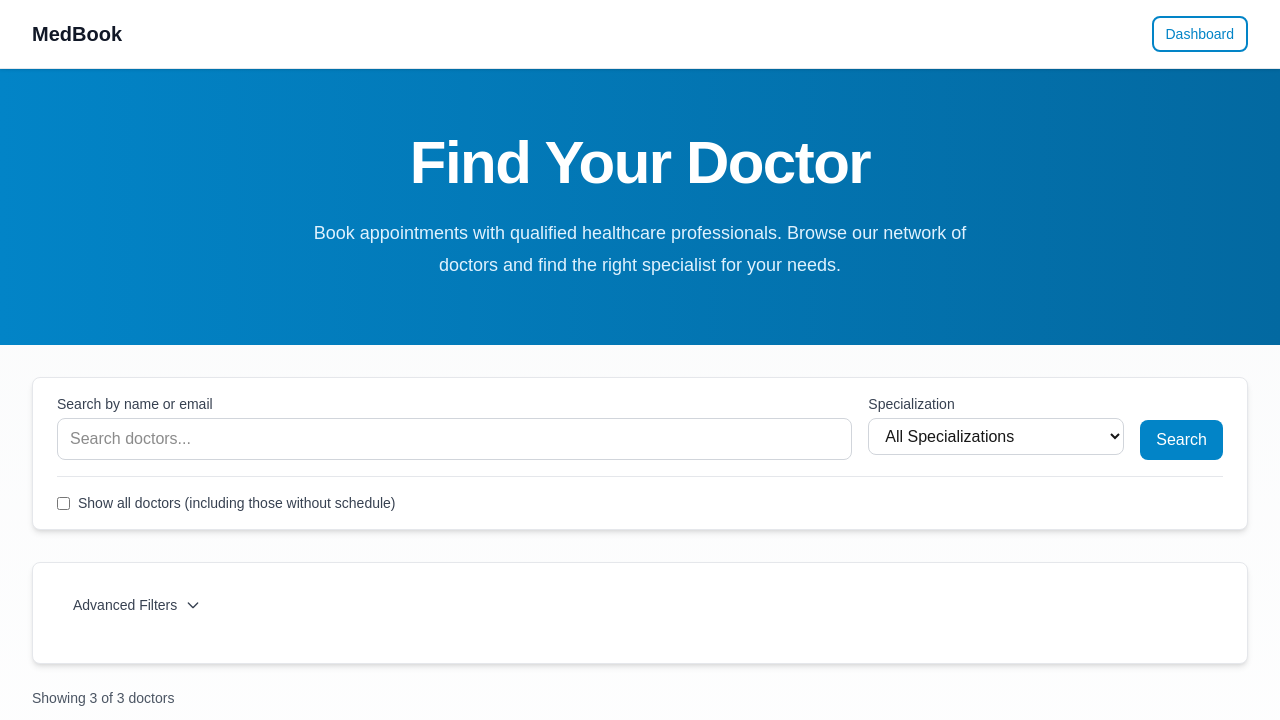
Test: DoctorsPage › Empty State › should show clear filters button when filters are applied
Select "Cardiology" in the dropdown showing "All Specializations" at (996, 436), box [868,418,1124,455]
(page scrolled)
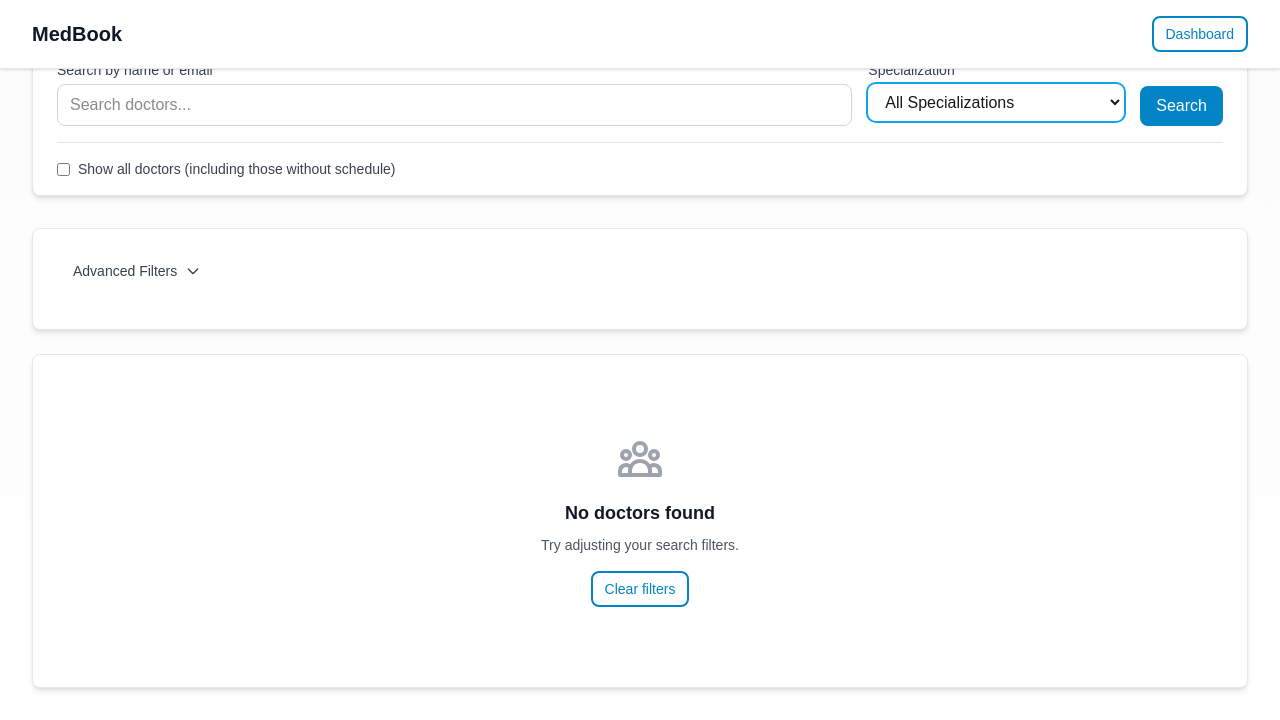
Expected: the button "Clear filters" is shown, [591,571,689,607]
